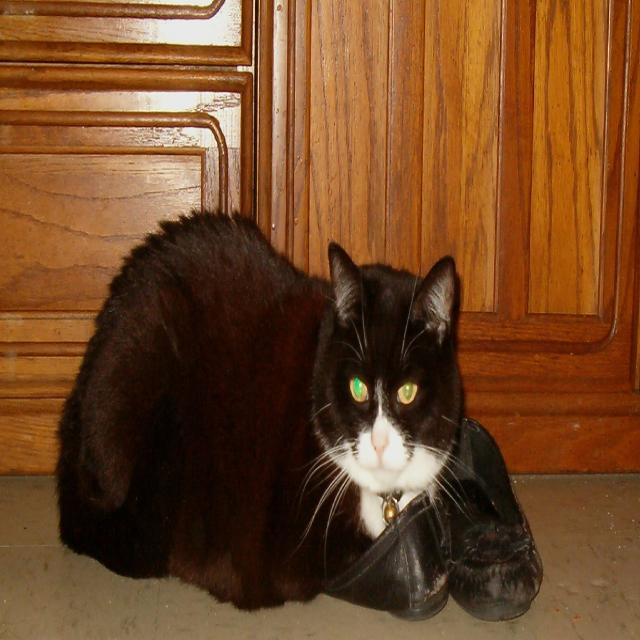cat: (55, 206, 471, 612)
